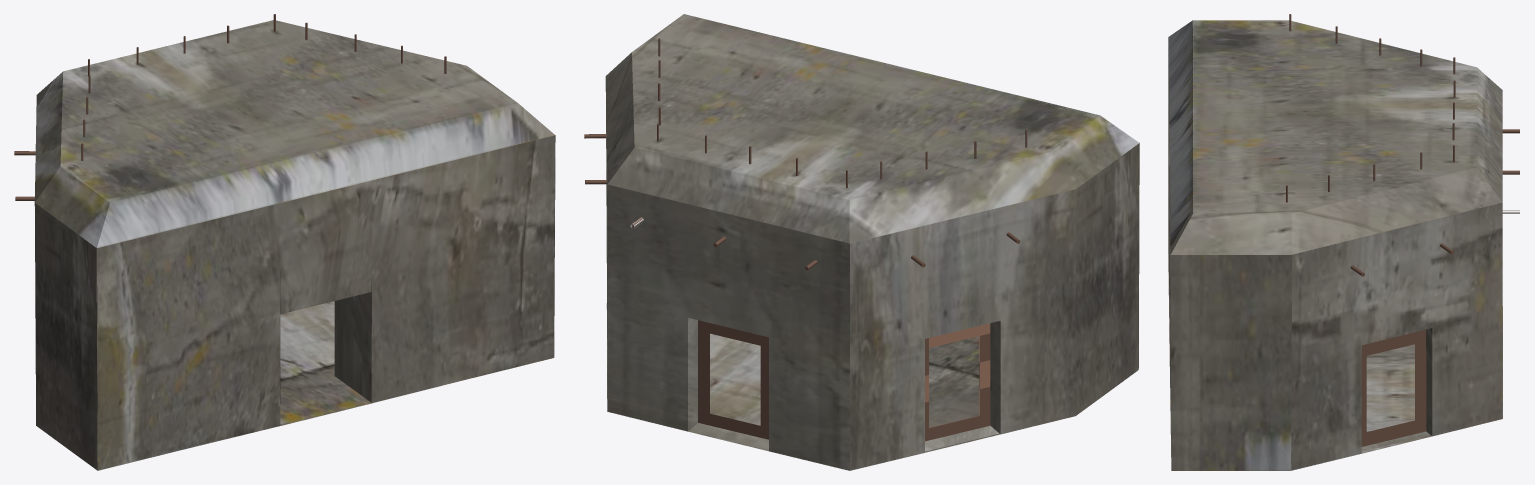
Rendered from bw-bunker.zfix-v3.lod0.glb.
3 views of the same model, side by side, from view 1: azimuth 30°, elevation 25°; view 2: azimuth 150°, elevation 25°; view 3: azimuth 270°, elevation 25° (orthographic). The views are drawn at different scales.
Visible parts, largest first — view 1: Cube.001_0, pin1_0; view 2: Cube.001_0, pin1_0, Cylinder.016_0; view 3: Cube.001_0, pin1_0.
Boxes of the visible parts, x1=… form: Cube.001_0: x1=34, y1=20, x2=555, y2=470; pin1_0: x1=14, y1=14, x2=446, y2=200; Cube.001_0: x1=605, y1=14, x2=1139, y2=470; pin1_0: x1=584, y1=38, x2=1027, y2=441; Cylinder.016_0: x1=630, y1=217, x2=990, y2=427; Cube.001_0: x1=1168, y1=20, x2=1502, y2=470; pin1_0: x1=1286, y1=14, x2=1519, y2=446.
Size of the model in its own units: 9 by 5.05 by 6.15.
Materials: 3 (2 with a texture image).
